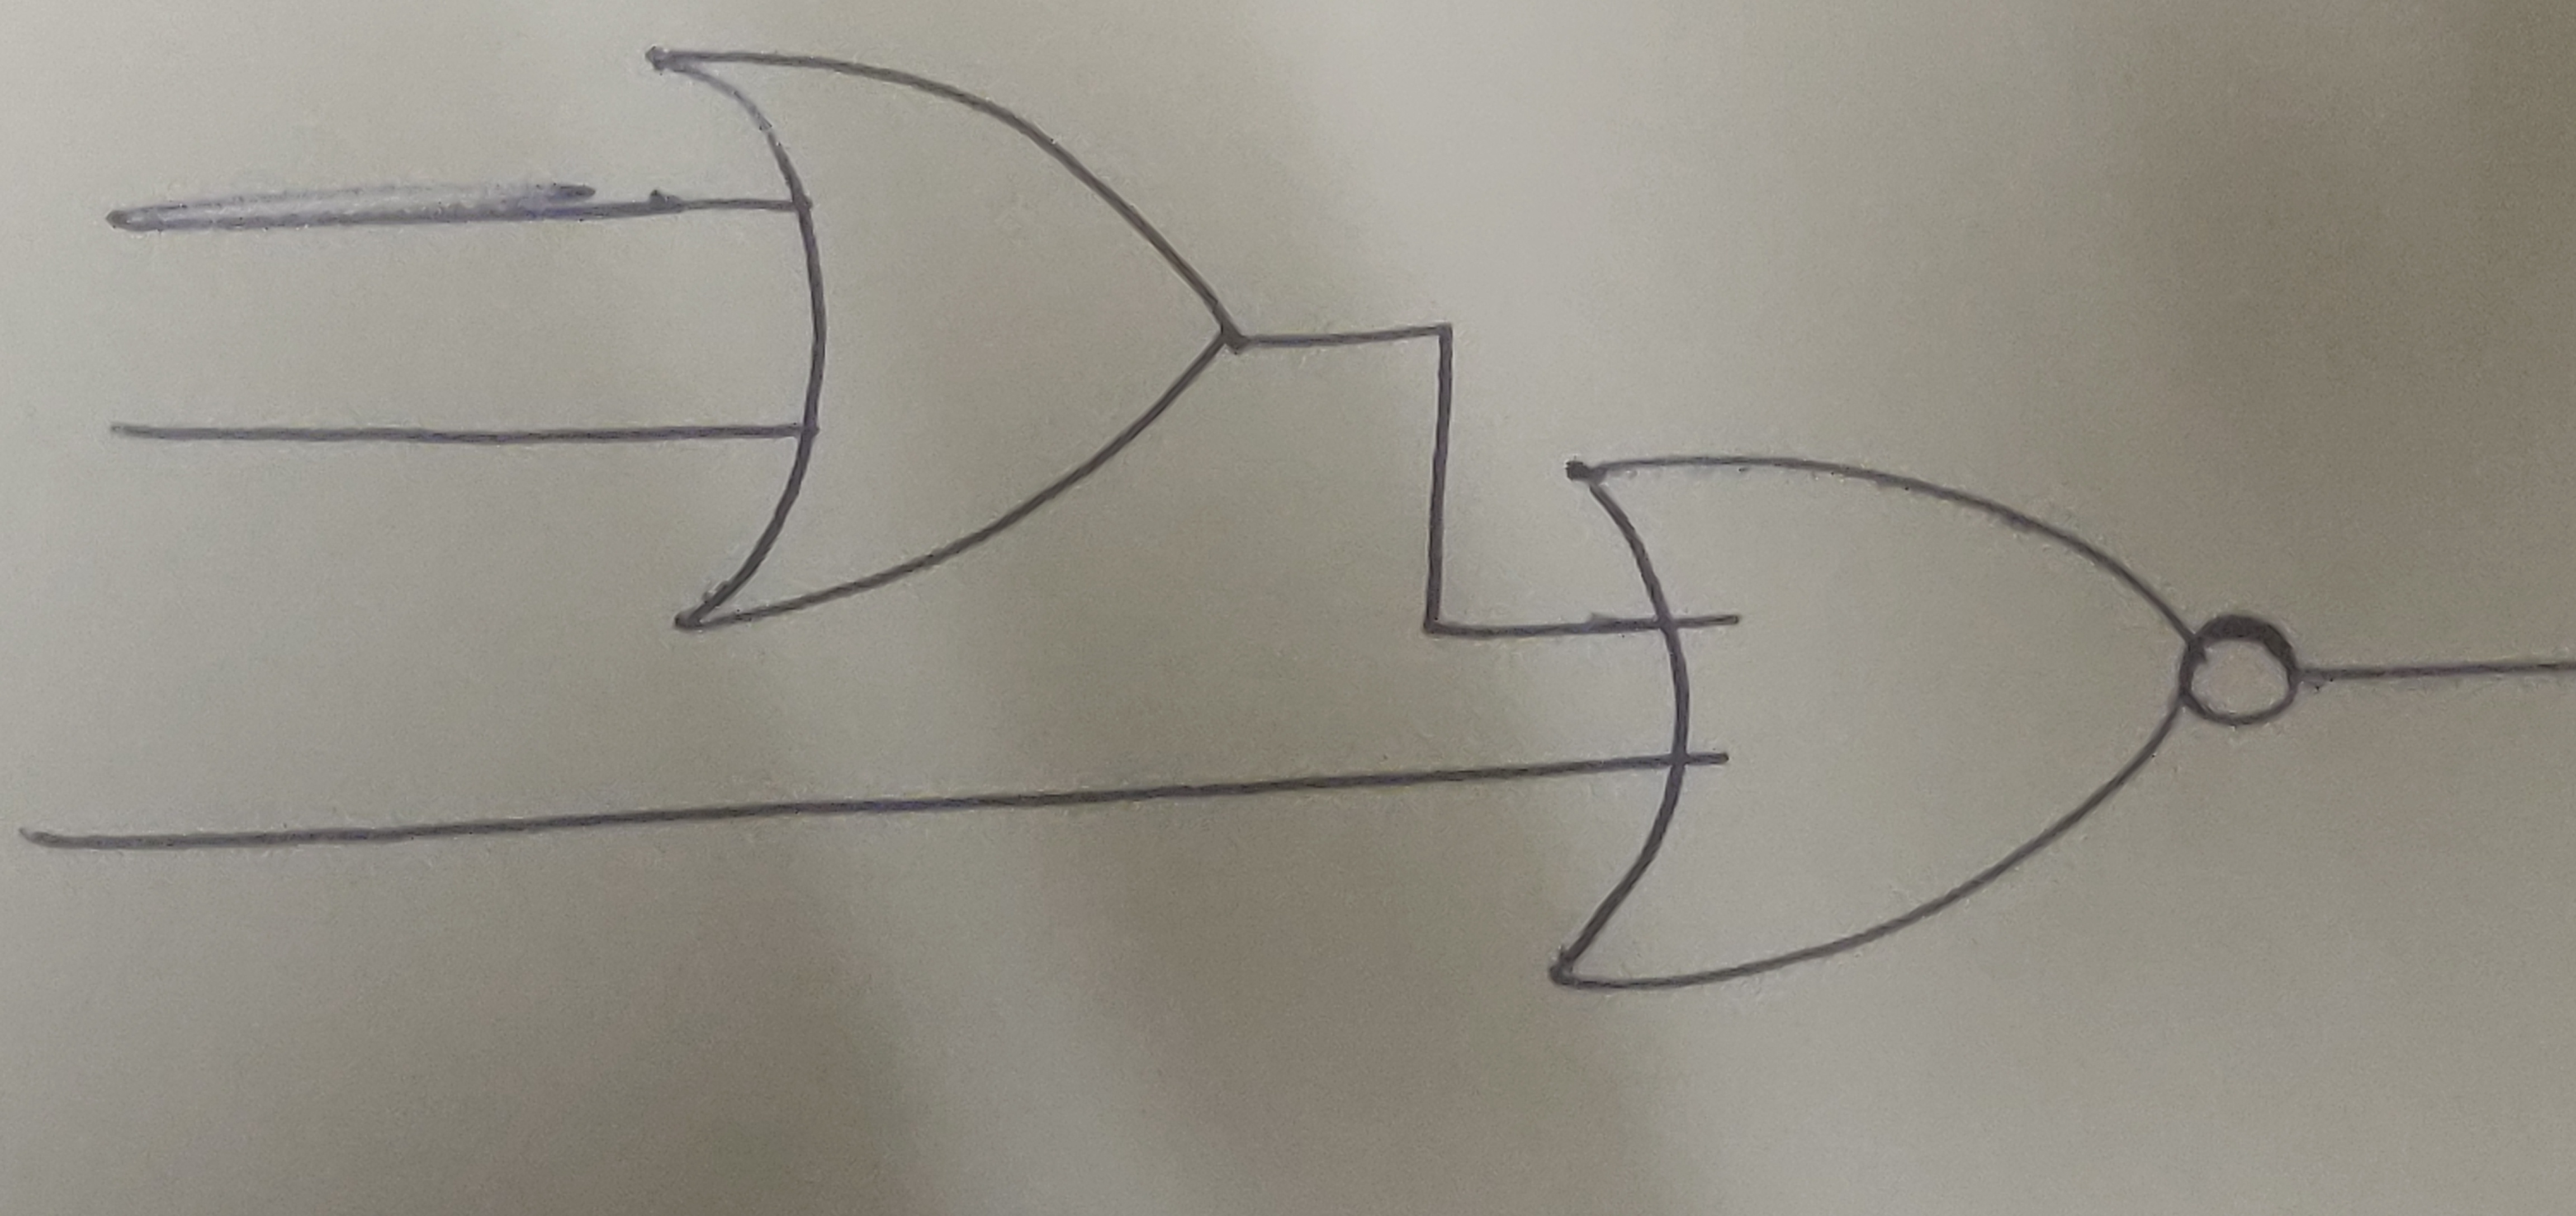not: (2178, 611, 2303, 746)
or: (634, 39, 1252, 644), (1548, 440, 2192, 996)
